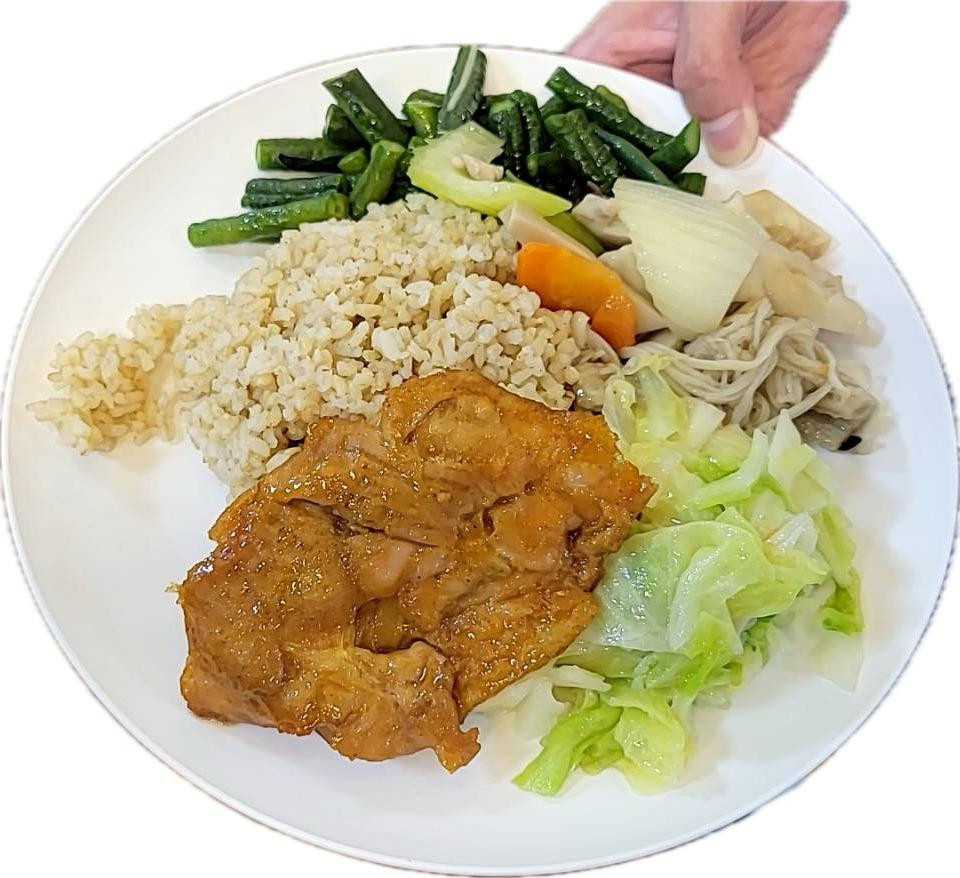big fried chicken leg: (6, 38, 960, 878)
box: (40, 192, 582, 483)
braised fish fillet: (522, 360, 875, 805), (177, 44, 708, 263), (532, 172, 886, 448)
braised pork: (183, 382, 640, 761)
